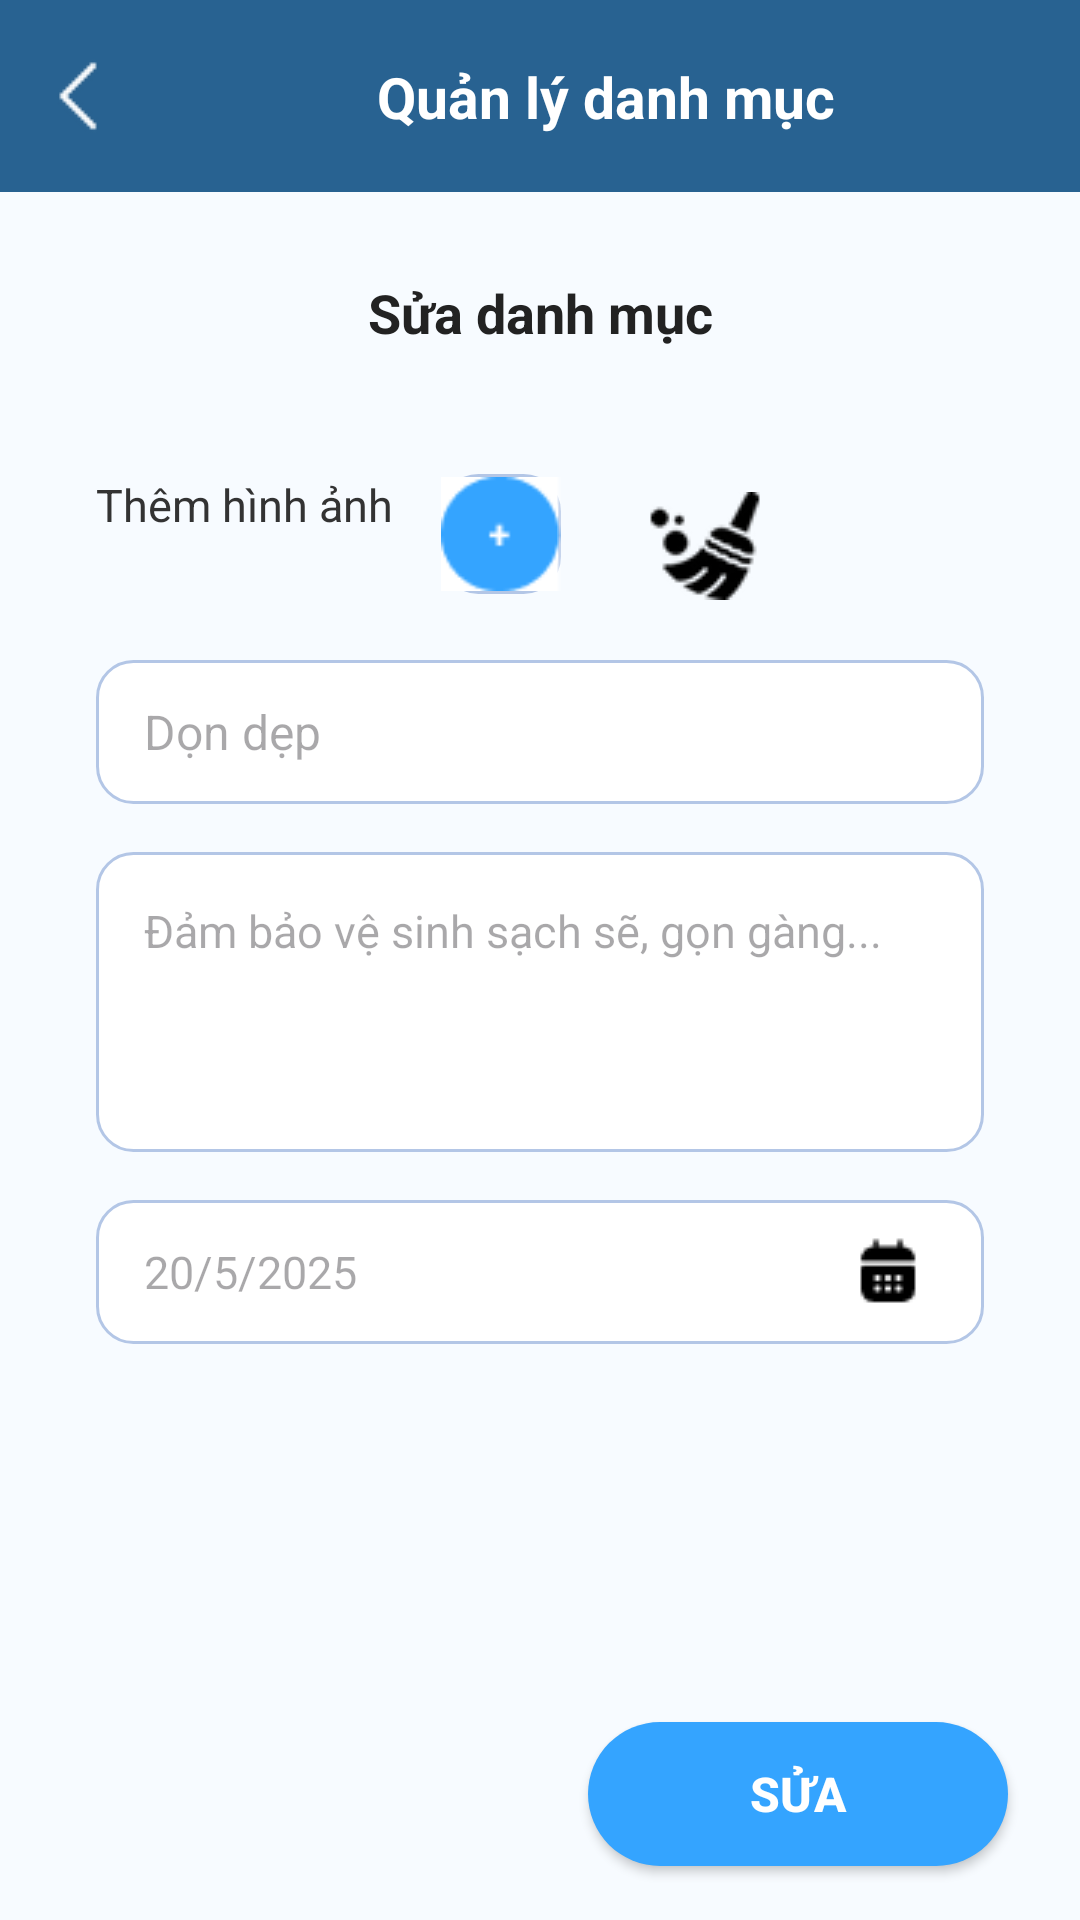

Named icons in this screenshot (1080w x 1920h) and their bounding boxes, (x1, y1, x2, y2):
Chọn ngày: (860, 1238, 916, 1303)
Quay lại: (59, 62, 97, 130)
